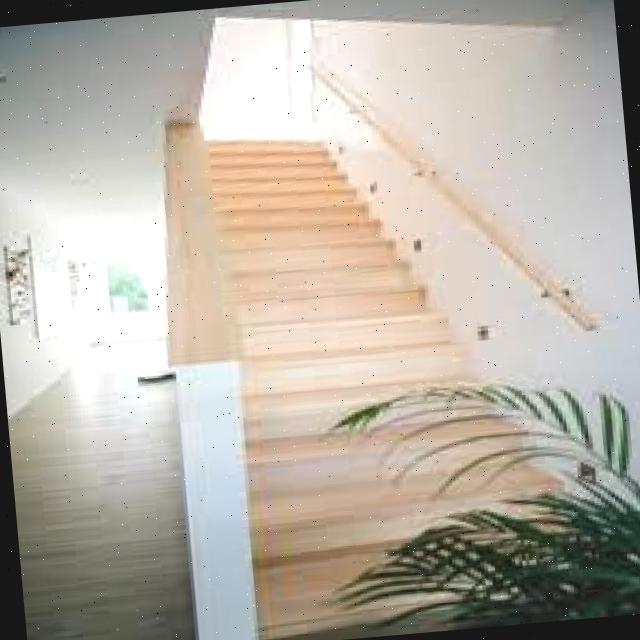stairs: (201, 112, 534, 640)
